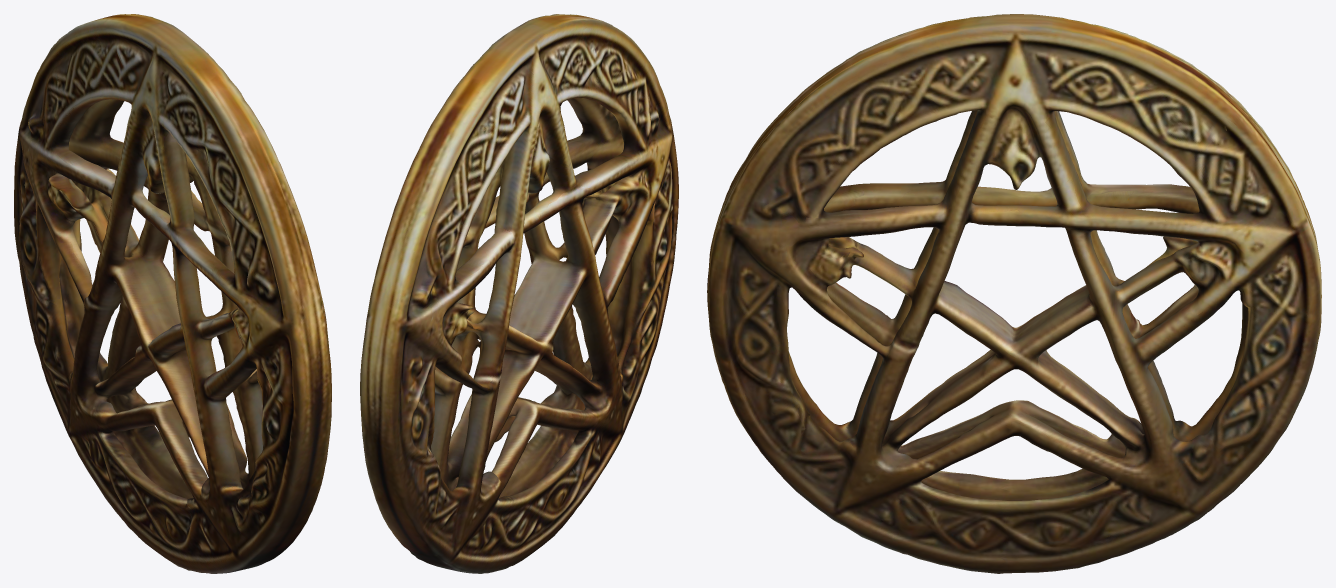
File: pentacle_3d.glb
3 renders of one model, left to right at view 1: azimuth 30°, elevation 25°; view 2: azimuth 150°, elevation 25°; view 3: azimuth 270°, elevation 25°, orthographic. The views are drawn at different scales.
Visible parts, largest first — view 1: tripo_node_9b60d1a7-d77f-4a49-85e8-f6dc10c179dc; view 2: tripo_node_9b60d1a7-d77f-4a49-85e8-f6dc10c179dc; view 3: tripo_node_9b60d1a7-d77f-4a49-85e8-f6dc10c179dc.
Part boxes in pixels (bbox=[...]): tripo_node_9b60d1a7-d77f-4a49-85e8-f6dc10c179dc: bbox=[14, 14, 331, 573]; tripo_node_9b60d1a7-d77f-4a49-85e8-f6dc10c179dc: bbox=[360, 14, 678, 573]; tripo_node_9b60d1a7-d77f-4a49-85e8-f6dc10c179dc: bbox=[707, 14, 1321, 573].
Size of the model in its own units: 0.1115 by 0.7496 by 0.7633.
1 material, 1 textured.
